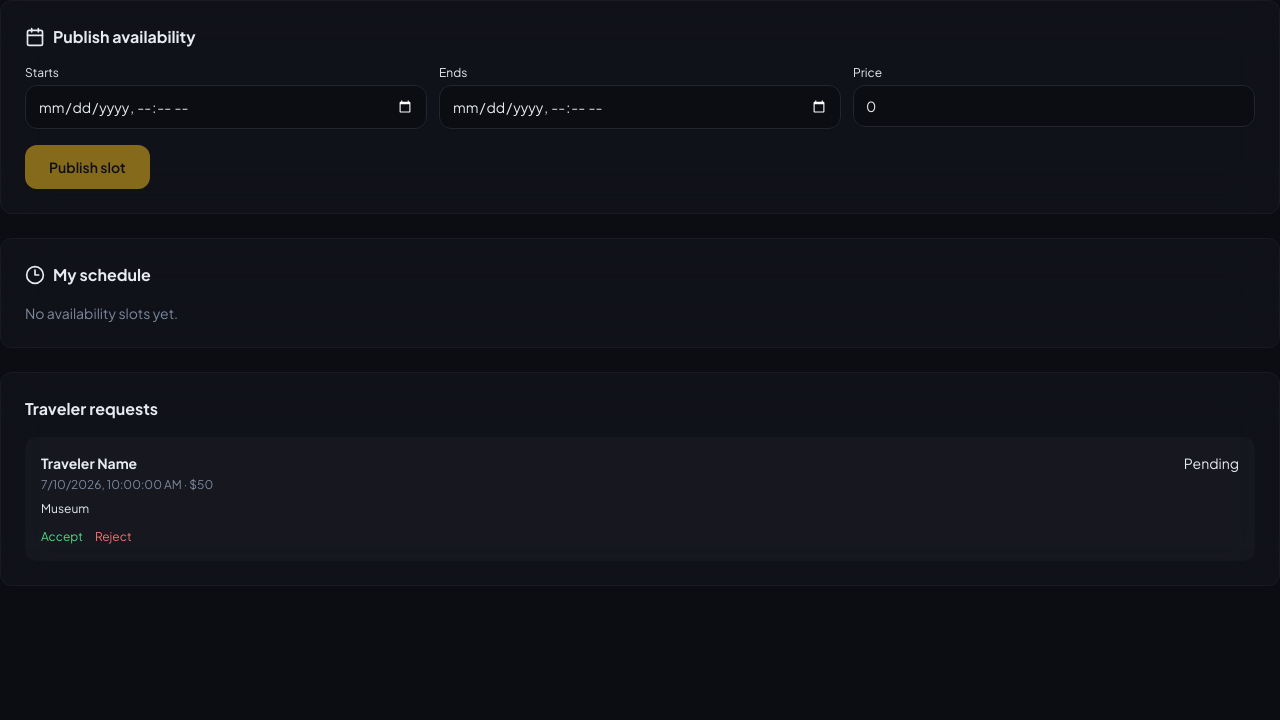
MyBuddyScheduleTab › handles the Reject action and updates status
This screenshot has width=1280, height=720.
Click the button "Reject" at (113, 537), box [95, 529, 132, 545]
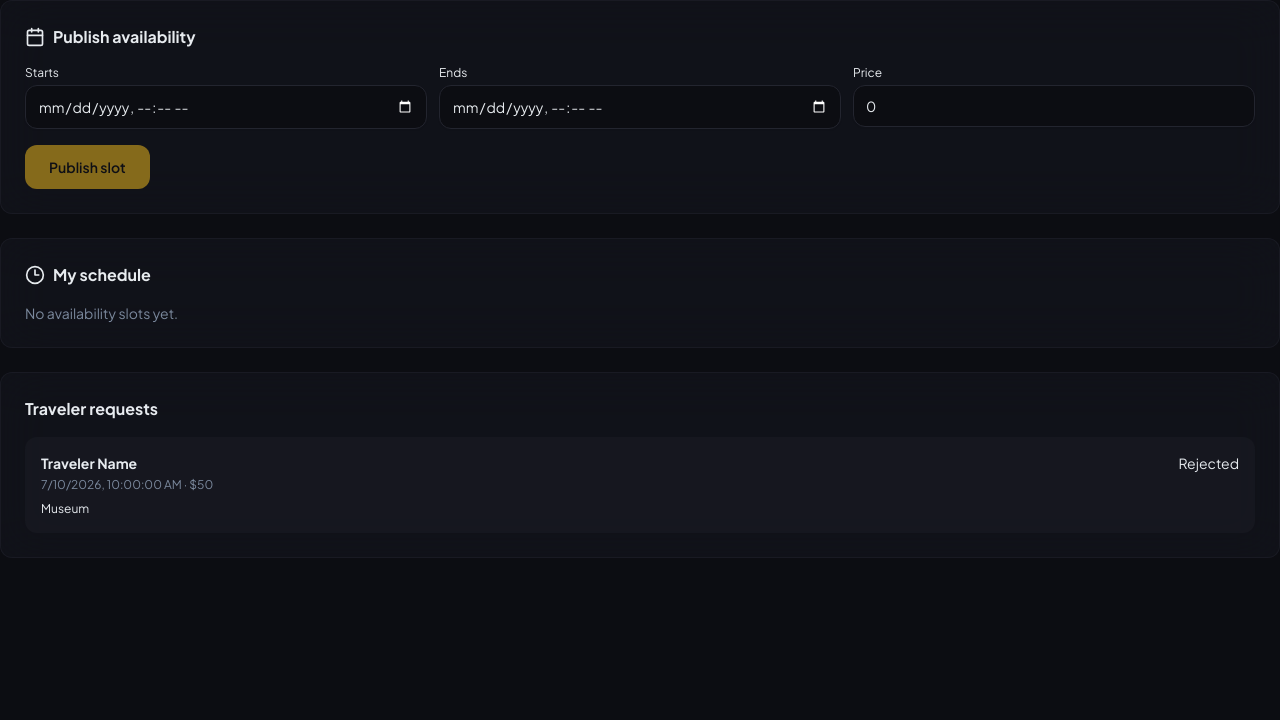
expect the text "Rejected" is shown: met, box [1178, 453, 1239, 473]
expect the button "Accept" is gone: met
